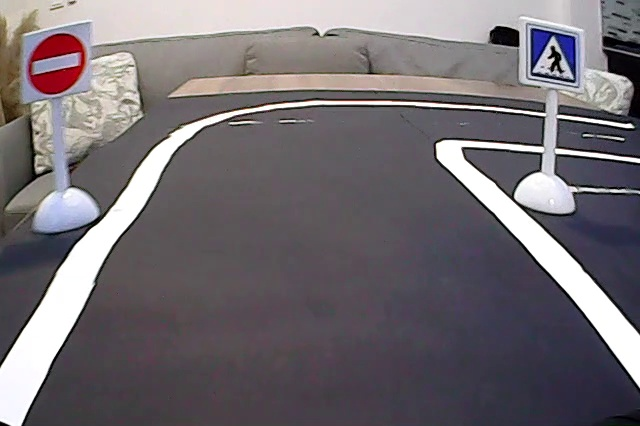do not enter: (25, 28, 89, 99)
pedestrian crossing: (524, 22, 581, 88)
